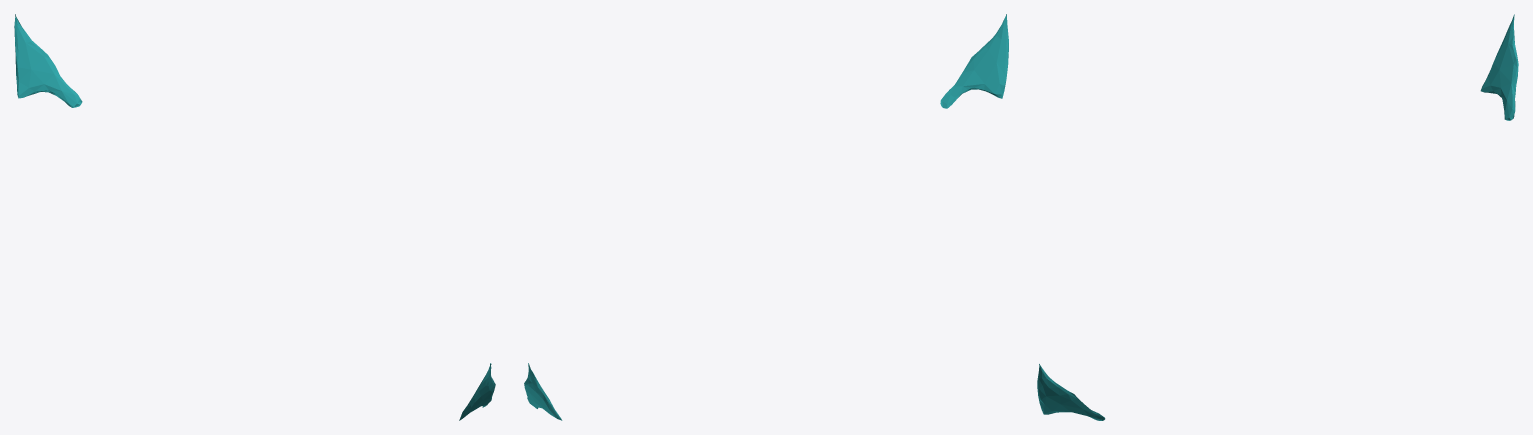
3 views of the same model, side by side, from view 1: azimuth 30°, elevation 25°; view 2: azimuth 150°, elevation 25°; view 3: azimuth 330°, elevation 25° (orthographic).
Parts seen in each view (by area): view 1: 312782640.obj; view 2: 312782640.obj; view 3: 312782640.obj.
Boxes of the visible parts, box(x1,y1,x2,y2) form: 312782640.obj: box(14, 14, 495, 420); 312782640.obj: box(524, 14, 1008, 420); 312782640.obj: box(1037, 14, 1518, 420).
Bounding box in the file's own units: 528 × 796 × 8913.
